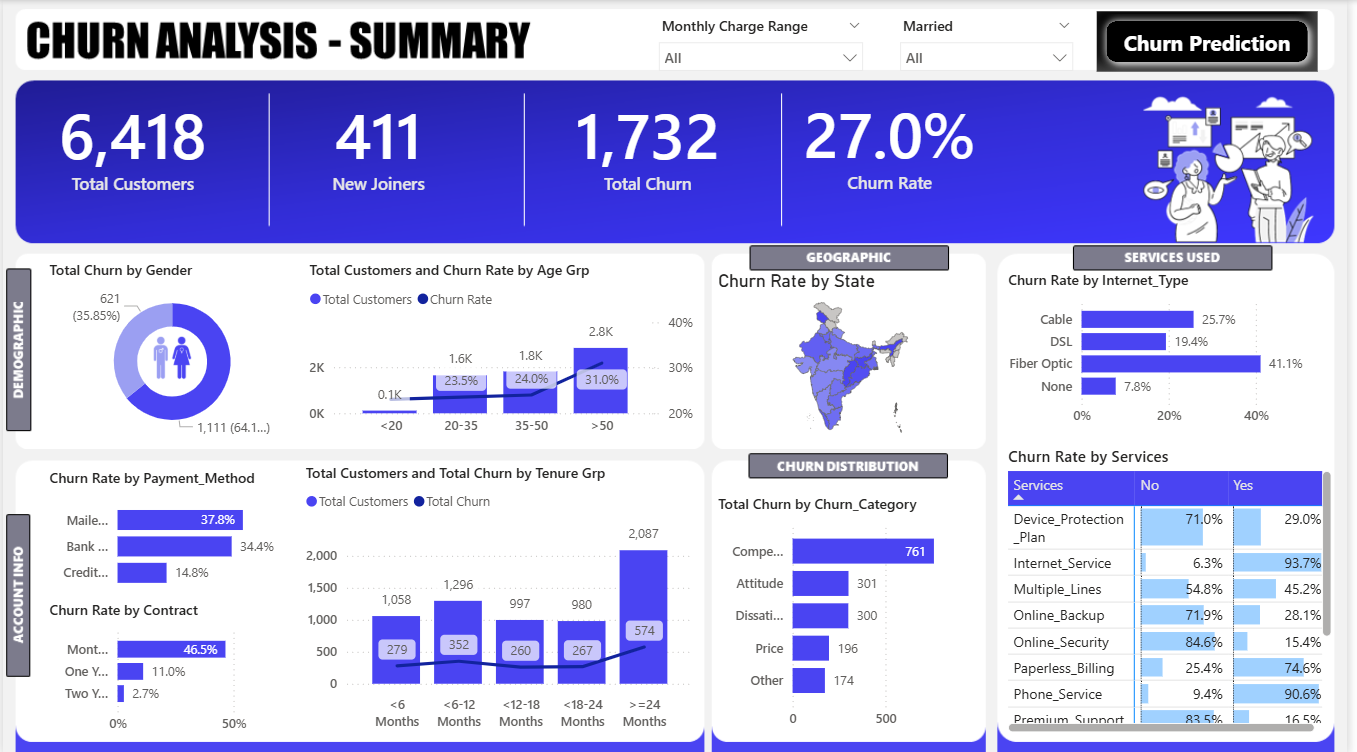

The page's visual inventory and layout, read from the dashboard file:
{"tool":"powerbi","page":{"name":"Summary","canvas":[1280,720],"ordinal":0},"visuals":[{"type":"image","box":[128.6,309.5,65.5,60.7],"z":0},{"type":"card","fields":{"Values":["Measures table.total customers"]},"box":[39.3,79.8,169,113.1],"z":1000},{"type":"card","fields":{"Values":["Measures table.New Joiners"]},"box":[266.7,79.8,182.1,113.1],"z":2000},{"type":"card","fields":{"Values":["Measures table.Total Churn"]},"box":[525,79.8,178.6,113.1],"z":3000},{"type":"card","fields":{"Values":["Measures table.Churn Rate"]},"box":[751.2,79.8,186.9,110.7],"z":4000},{"type":"donutChart","fields":{"Category":["churn prod_customers.Gender"],"Y":["Measures table.Total Churn"]},"box":[39.3,247.6,244,176.2],"z":5000},{"type":"lineStackedColumnComboChart","fields":{"Y":["Measures table.total customers"],"Y2":["Measures table.Churn Rate"],"Category":["Age Mapping.Age Grp"]},"box":[286.9,247.6,376.2,176.2],"z":6000},{"type":"clusteredBarChart","fields":{"Category":["churn prod_customers.Payment_Method"],"Y":["Measures table.Churn Rate"]},"box":[39.3,445.2,227.4,126.2],"z":7000},{"type":"clusteredBarChart","fields":{"Category":["churn prod_customers.Contract"],"Y":["Measures table.Churn Rate"]},"box":[39.3,571.4,227.4,135.7],"z":8000},{"type":"lineStackedColumnComboChart","fields":{"Category":["Tenure Mapping.Tenure Grp"],"Y2":["Measures table.Total Churn"],"Y":["Measures table.total customers"]},"box":[283.3,440.5,379.8,261.9],"z":9000},{"type":"shapeMap","title":"Churn Rate by State","fields":{"Category":["churn prod_customers.State"],"Value":["Measures table.Churn Rate"]},"box":[676.2,257.1,261.9,166.7],"z":10000},{"type":"clusteredBarChart","fields":{"Category":["churn prod_customers.Churn_Category"],"Y":["Measures table.Total Churn"]},"box":[676.2,470.2,250,232.1],"z":11000},{"type":"clusteredBarChart","fields":{"Category":["churn prod_customers.Internet_Type"],"Y":["Measures table.Churn Rate"]},"box":[952.4,257.1,308.3,157.1],"z":12000},{"type":"pivotTable","title":"Churn Rate by Services","fields":{"Rows":["prod_service.Services"],"Columns":["prod_service.Status"],"Values":["Sum(prod_service.Churn Status)"]},"box":[952.4,423.8,317.9,278.6],"z":13000},{"type":"slicer","fields":{"Values":["churn prod_customers.Monthly Charge Status"]},"box":[614.8,10.8,214.9,62.4],"z":14000},{"type":"slicer","fields":{"Values":["churn prod_customers.Married"]},"box":[844.1,10.8,184.9,62.4],"z":15000},{"type":"shape","box":[1042.3,10.8,210.1,57.6],"z":15001}]}

Visuals, with their boxes in screenshot pixels (x1, y1, x2, y2), scaled from the page's 1280x720 canvas onto the 1357x752 screenshot:
image: bbox=[136, 323, 206, 387]
card - Measures table.total customers: bbox=[42, 83, 221, 201]
card - Measures table.New Joiners: bbox=[283, 83, 476, 201]
card - Measures table.Total Churn: bbox=[557, 83, 746, 201]
card - Measures table.Churn Rate: bbox=[796, 83, 995, 199]
donutChart - churn prod_customers.Gender x Measures table.Total Churn: bbox=[42, 259, 300, 443]
lineStackedColumnComboChart - Measures table.total customers x Measures table.Churn Rate: bbox=[304, 259, 703, 443]
clusteredBarChart - churn prod_customers.Payment_Method x Measures table.Churn Rate: bbox=[42, 465, 283, 597]
clusteredBarChart - churn prod_customers.Contract x Measures table.Churn Rate: bbox=[42, 597, 283, 739]
lineStackedColumnComboChart - Tenure Mapping.Tenure Grp x Measures table.Total Churn: bbox=[300, 460, 703, 734]
"Churn Rate by State" shapeMap: bbox=[717, 269, 995, 443]
clusteredBarChart - churn prod_customers.Churn_Category x Measures table.Total Churn: bbox=[717, 491, 982, 734]
clusteredBarChart - churn prod_customers.Internet_Type x Measures table.Churn Rate: bbox=[1010, 269, 1337, 433]
"Churn Rate by Services" pivotTable: bbox=[1010, 443, 1347, 734]
slicer - churn prod_customers.Monthly Charge Status: bbox=[652, 11, 880, 76]
slicer - churn prod_customers.Married: bbox=[895, 11, 1091, 76]
shape: bbox=[1105, 11, 1328, 71]
